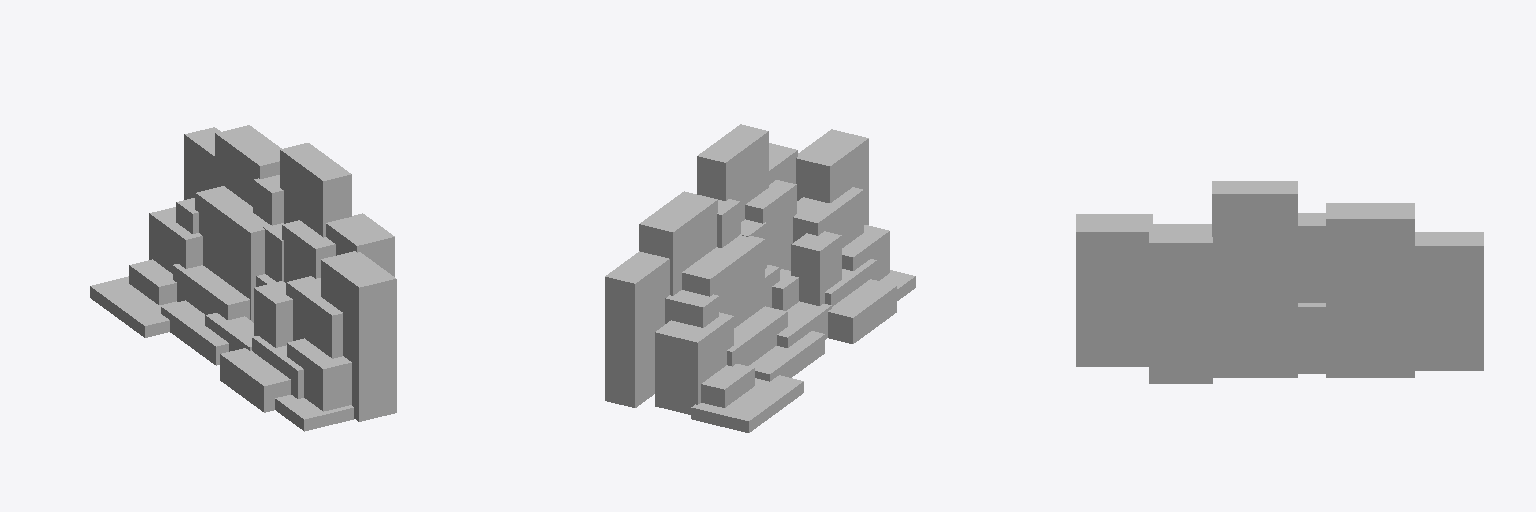
Rendered from cavemen borders.obj.
3 views of the same model, side by side, from view 1: azimuth 30°, elevation 25°; view 2: azimuth 150°, elevation 25°; view 3: azimuth 270°, elevation 25° (orthographic).
Visible parts, largest first — view 1: cube; view 2: cube; view 3: cube.
Part boxes in pixels (left/top/right/bottom): cube: left=90, top=125, right=396, bottom=431; cube: left=605, top=124, right=915, bottom=432; cube: left=1076, top=181, right=1483, bottom=383.
Size of the model in its own units: 14.53 by 17.31 by 34.95.